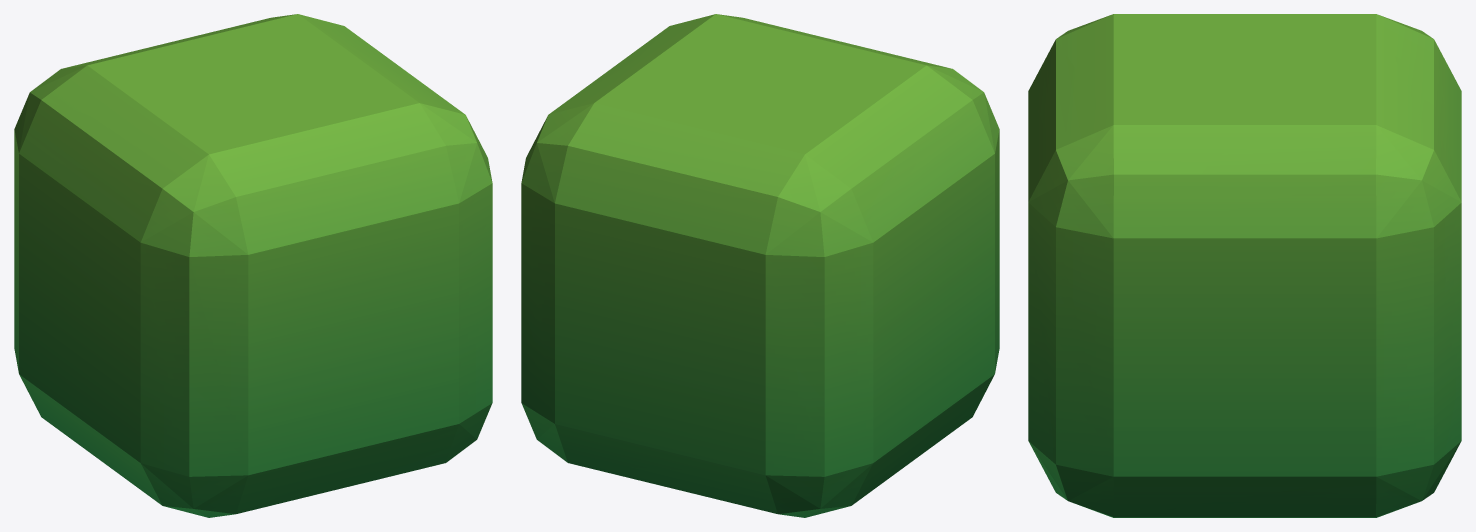
Rendered from kf_bush_2_b.fbx.
The picture shows the model from 3 angles, left to right: view 1: azimuth 30°, elevation 25°; view 2: azimuth 150°, elevation 25°; view 3: azimuth 270°, elevation 25°; orthographic projection. The views are drawn at different scales.
Parts seen in each view (by area): view 1: kf_bush_2_b; view 2: kf_bush_2_b; view 3: kf_bush_2_b.
Part boxes in pixels (left/top/right/bottom): kf_bush_2_b: left=14, top=14, right=492, bottom=517; kf_bush_2_b: left=521, top=14, right=999, bottom=517; kf_bush_2_b: left=1028, top=14, right=1461, bottom=517.
Bounding box in the file's own units: 1.37 × 1.37 × 1.37.
Materials: 1 (1 with a texture image).
